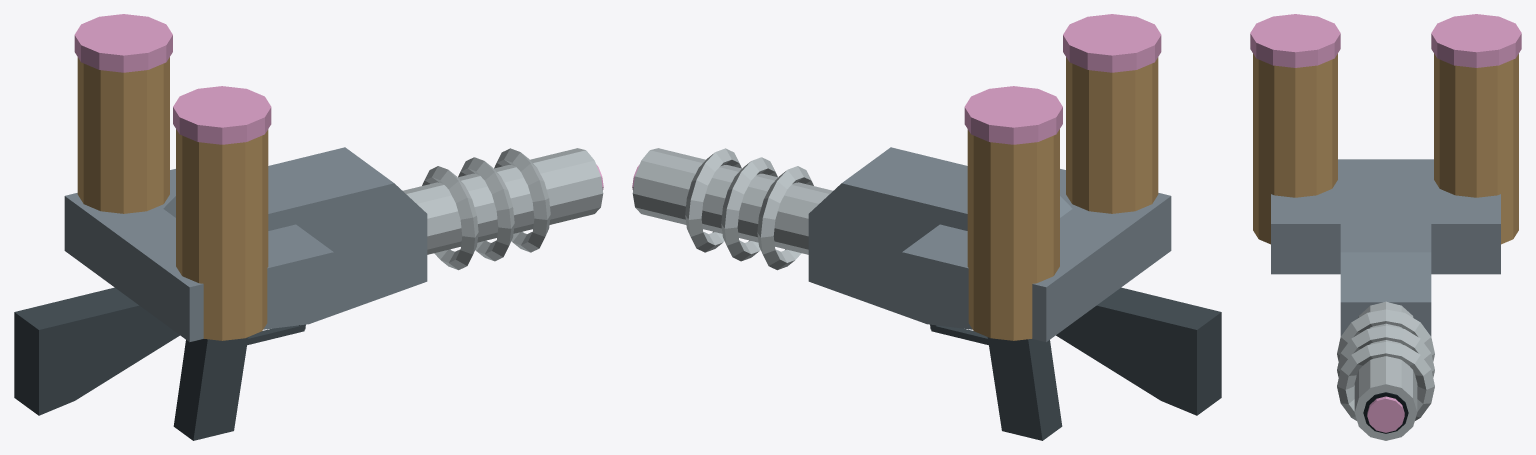
Rendered from w29-miasma.glb.
3 renders of one model, left to right at view 1: azimuth 30°, elevation 25°; view 2: azimuth 150°, elevation 25°; view 3: azimuth 270°, elevation 25°, orthographic. The views are drawn at different scales.
Parts seen in each view (by area): view 1: w29-miasma__receiver, w29-miasma__fluid_manifold, w29-miasma__fluid_tank_-0.13, w29-miasma__fluid_tank_0.13, w29-miasma__stock, w29-miasma__barrel, w29-miasma__grip, w29-miasma__tank_cap_-0.13, w29-miasma__tank_cap_0.13, w29-miasma__nozzle_fin_0, w29-miasma__nozzle_fin_2, w29-miasma__nozzle_fin_1; view 2: w29-miasma__receiver, w29-miasma__fluid_manifold, w29-miasma__fluid_tank_0.13, w29-miasma__fluid_tank_-0.13, w29-miasma__stock, w29-miasma__barrel, w29-miasma__grip, w29-miasma__tank_cap_0.13, w29-miasma__tank_cap_-0.13, w29-miasma__nozzle_fin_0, w29-miasma__nozzle_fin_2, w29-miasma__nozzle_fin_1; view 3: w29-miasma__fluid_manifold, w29-miasma__receiver, w29-miasma__fluid_tank_-0.13, w29-miasma__fluid_tank_0.13, w29-miasma__tank_cap_-0.13, w29-miasma__tank_cap_0.13, w29-miasma__barrel, w29-miasma__nozzle_fin_2, w29-miasma__nozzle_fin_1, w29-miasma__nozzle_fin_0, w29-miasma__fluid_aperture, w29-miasma__barrel_bore.
Part boxes in pixels (x1,y1,x2,y2): w29-miasma__receiver: [163, 147, 427, 329]; w29-miasma__fluid_manifold: [64, 169, 333, 342]; w29-miasma__fluid_tank_-0.13: [176, 129, 268, 340]; w29-miasma__fluid_tank_0.13: [77, 57, 169, 213]; w29-miasma__stock: [14, 287, 179, 415]; w29-miasma__barrel: [403, 148, 603, 254]; w29-miasma__grip: [173, 337, 248, 440]; w29-miasma__tank_cap_-0.13: [173, 86, 271, 144]; w29-miasma__tank_cap_0.13: [74, 14, 172, 72]; w29-miasma__nozzle_fin_0: [422, 166, 478, 270]; w29-miasma__nozzle_fin_2: [494, 148, 550, 252]; w29-miasma__nozzle_fin_1: [458, 157, 514, 261]; w29-miasma__receiver: [808, 147, 1072, 329]; w29-miasma__fluid_manifold: [902, 169, 1171, 342]; w29-miasma__fluid_tank_0.13: [967, 129, 1059, 340]; w29-miasma__fluid_tank_-0.13: [1066, 57, 1158, 213]; w29-miasma__stock: [1056, 287, 1221, 415]; w29-miasma__barrel: [632, 148, 832, 254]; w29-miasma__grip: [987, 337, 1062, 440]; w29-miasma__tank_cap_0.13: [964, 86, 1062, 144]; w29-miasma__tank_cap_-0.13: [1063, 14, 1161, 72]; w29-miasma__nozzle_fin_0: [757, 166, 813, 270]; w29-miasma__nozzle_fin_2: [685, 148, 741, 252]; w29-miasma__nozzle_fin_1: [721, 157, 777, 261]; w29-miasma__fluid_manifold: [1271, 159, 1500, 274]; w29-miasma__receiver: [1340, 180, 1431, 336]; w29-miasma__fluid_tank_-0.13: [1253, 53, 1337, 244]; w29-miasma__fluid_tank_0.13: [1434, 53, 1518, 244]; w29-miasma__tank_cap_-0.13: [1250, 14, 1340, 67]; w29-miasma__tank_cap_0.13: [1431, 14, 1521, 67]; w29-miasma__barrel: [1354, 301, 1417, 440]; w29-miasma__nozzle_fin_2: [1337, 342, 1434, 420]; w29-miasma__nozzle_fin_1: [1337, 325, 1434, 386]; w29-miasma__nozzle_fin_0: [1337, 309, 1434, 361]; w29-miasma__fluid_aperture: [1367, 396, 1404, 432]; w29-miasma__barrel_bore: [1363, 392, 1408, 433].
Size of the model in its own units: 0.8642 by 0.5325 by 0.39.
